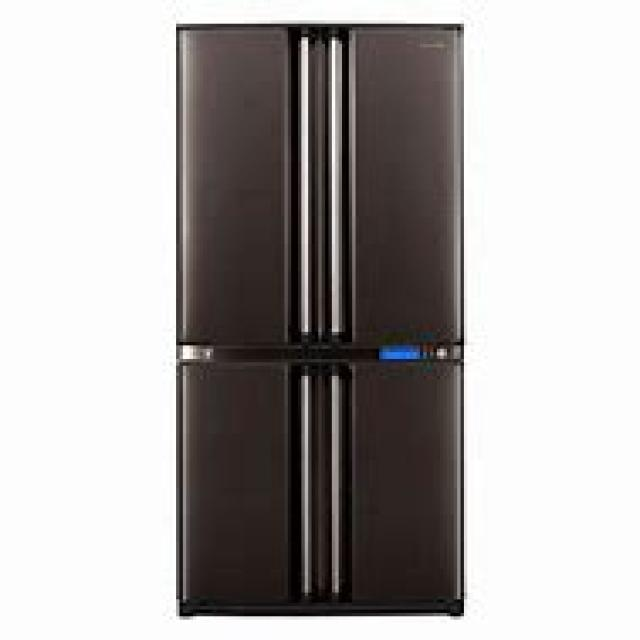fridge: (173, 21, 464, 616)
